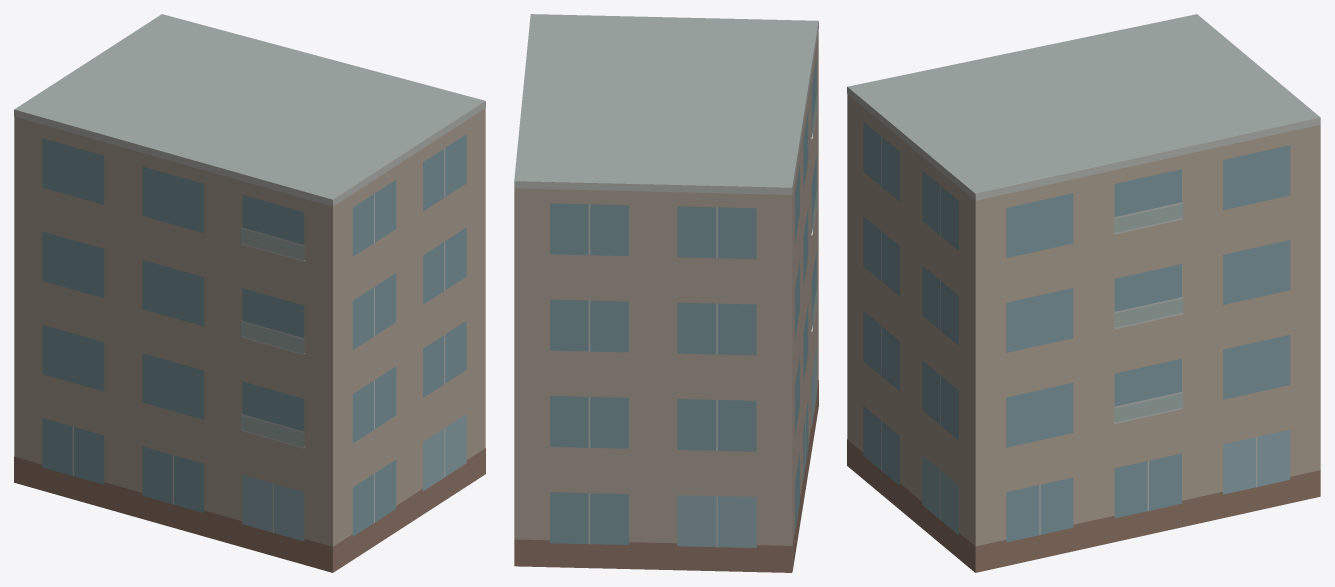
File: survey-upis-32738541.glb
The picture shows the model from 3 angles, left to right: view 1: azimuth 30°, elevation 25°; view 2: azimuth 150°, elevation 25°; view 3: azimuth 270°, elevation 25°; orthographic projection. The views are drawn at different scales.
Visible parts, largest first — view 1: survey-upis-32738541.tmp; view 2: survey-upis-32738541.tmp; view 3: survey-upis-32738541.tmp.
Part boxes in pixels (x1,y1,x2,y2): survey-upis-32738541.tmp: (14, 14, 485, 572); survey-upis-32738541.tmp: (514, 14, 818, 572); survey-upis-32738541.tmp: (847, 14, 1320, 572).
Size of the model in its own units: 13.18 by 12.95 by 14.67.
